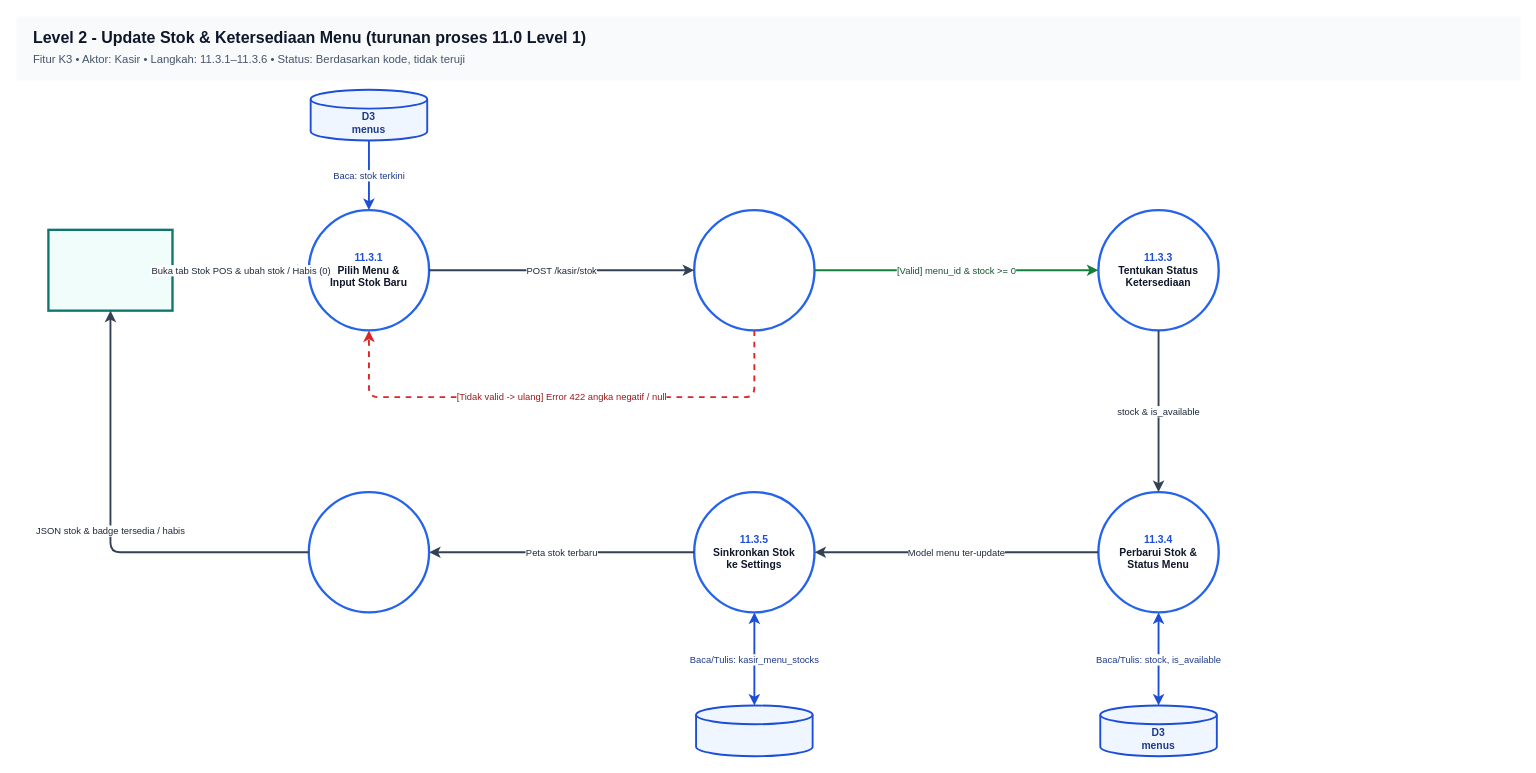
The diagram is 1536 pixels wide and 773 high, and some of its shapes have lost their labels. The centre of each missing label's shape, as x and y in pixels:
"11.3.2 Validasi Menu & Stok >= 0" goes at [754,269].
"11.3.6 Kirim JSON Status Stok Baru" goes at [368,551].
"D16 settings" goes at [754,730].
"Kasir Terautentikasi" goes at [110,269].
